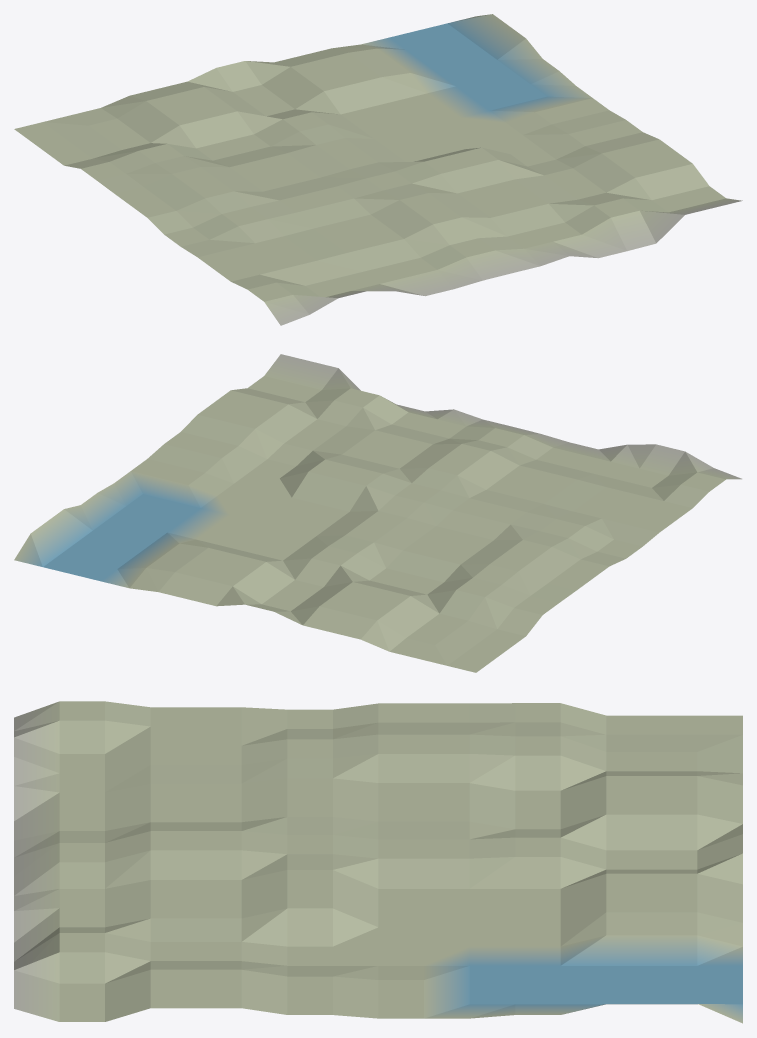
The picture shows the model from 3 angles, top to bottom: view 1: azimuth 30°, elevation 25°; view 2: azimuth 150°, elevation 25°; view 3: azimuth 270°, elevation 25°; orthographic projection. The views are drawn at different scales.
Size of the model in its own units: 32 by 1.71 by 32.
